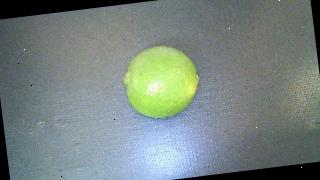EXPORTACION: (120, 42, 203, 122)
